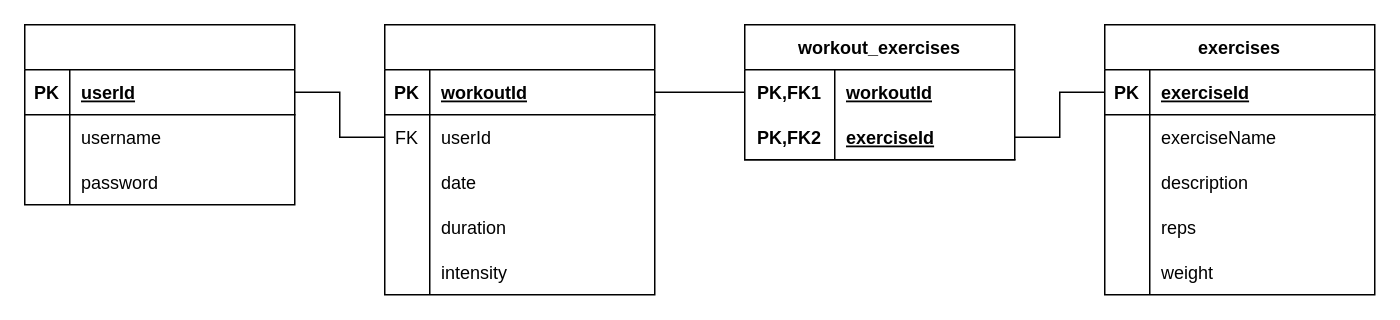
The diagram is 1400 pixels wide and 320 high, and some of its shapes have lost their labels. The shapes that lost their labels are listed below. From the top down, each one's box as (x1, y1, x2, y2) in pixels, then its label:
(23, 23, 295, 205): users
(383, 23, 655, 295): workouts
